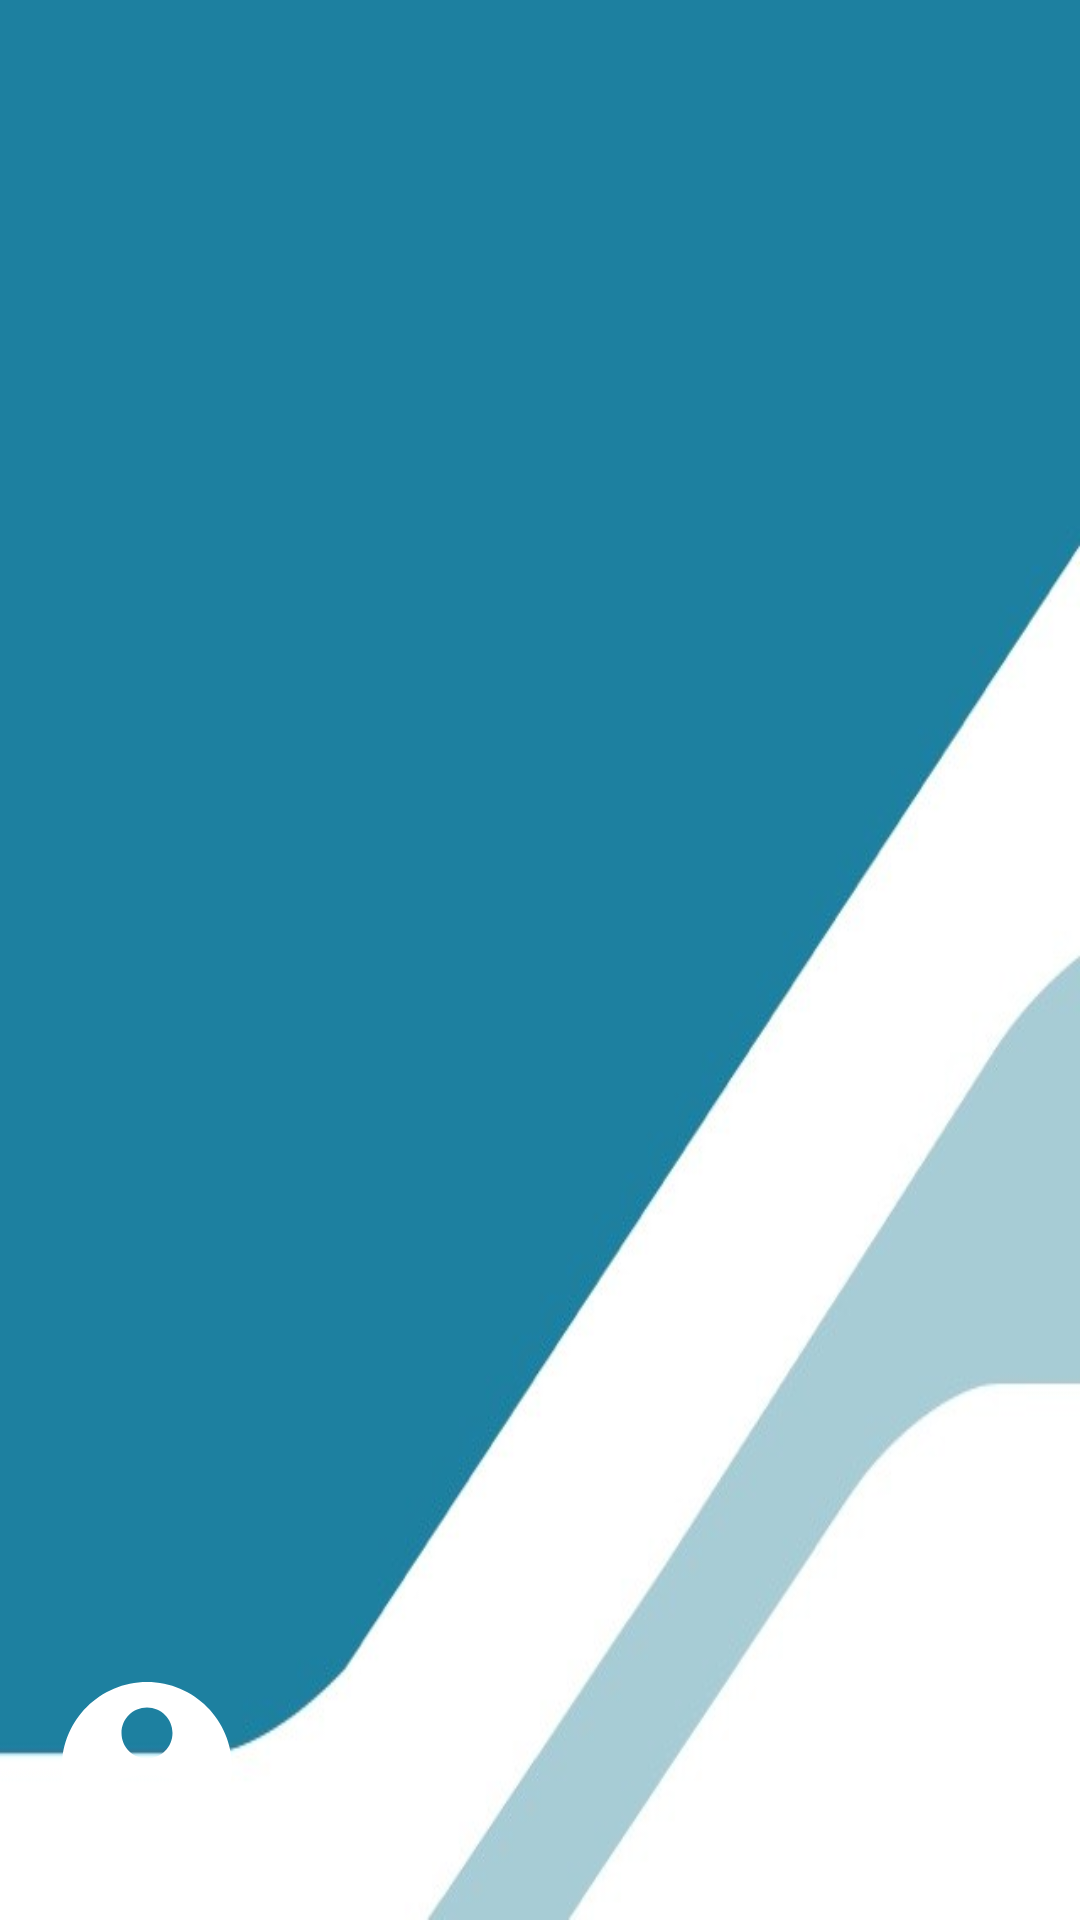

Point at icon controls on the screen. Image size 1080 × 1920, points as point (x, y).
Acount: point (147, 1767)
